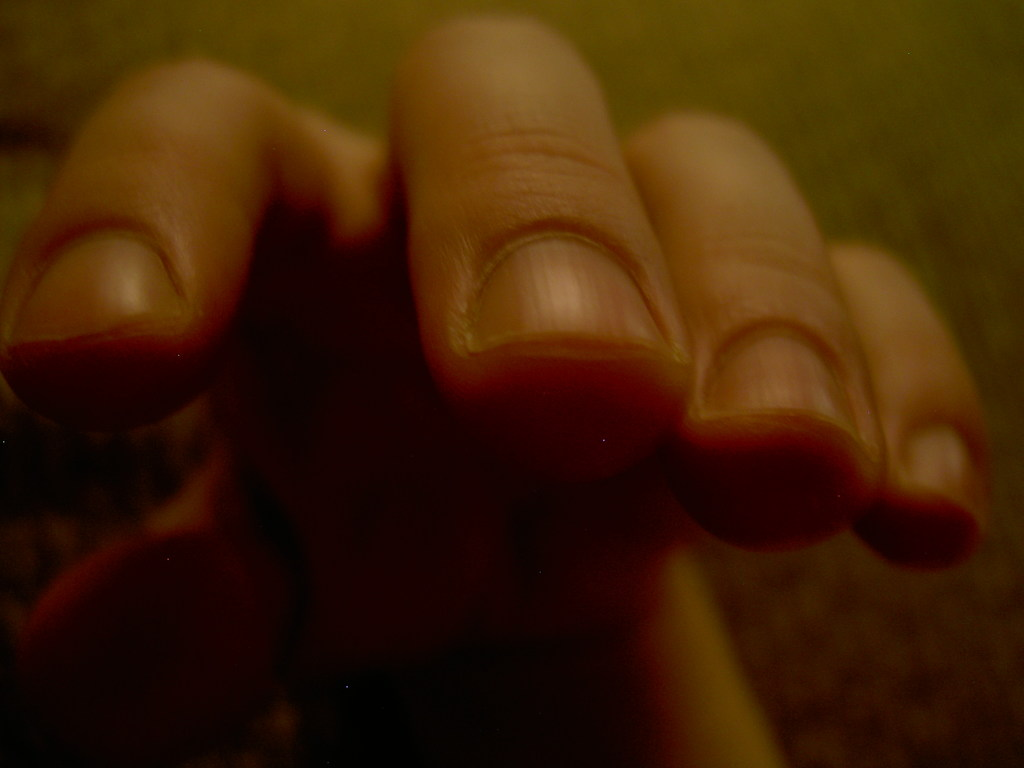Human_hand: (0, 9, 989, 569)
